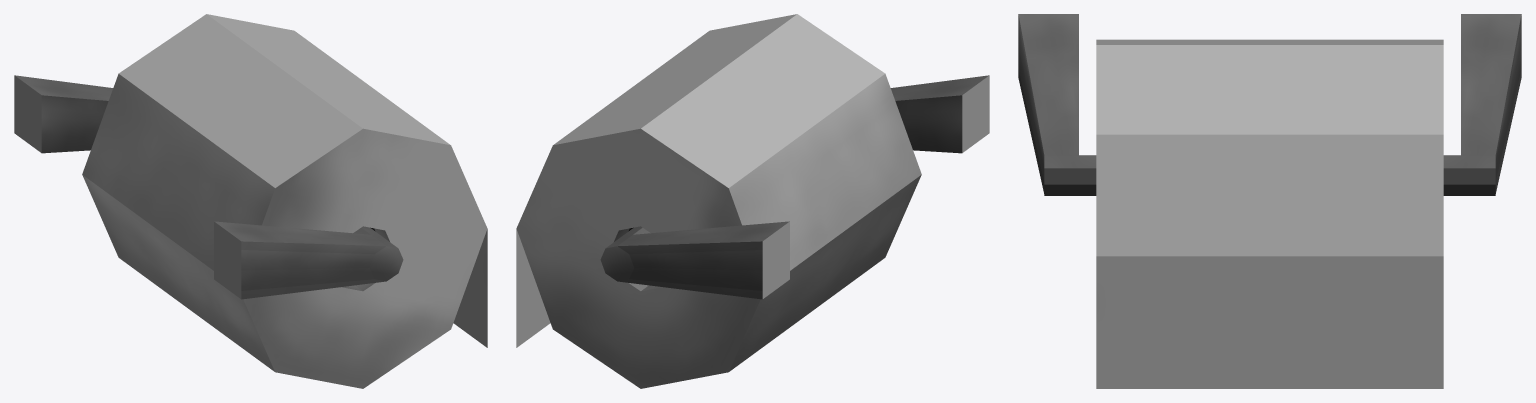
The model's file is paper_roll.fbx.
3 views of the same model, side by side, from view 1: azimuth 30°, elevation 25°; view 2: azimuth 150°, elevation 25°; view 3: azimuth 270°, elevation 25° (orthographic). The views are drawn at different scales.
Visible parts, largest first — view 1: paper_roll; view 2: paper_roll; view 3: paper_roll.
Boxes of the visible parts, x1,y1,x2,y2 form: paper_roll: [14, 14, 487, 388]; paper_roll: [516, 14, 989, 388]; paper_roll: [1018, 14, 1521, 388].
Size of the model in its own units: 0.1244 by 0.11 by 0.1739.
Materials: 1 (1 with a texture image).
